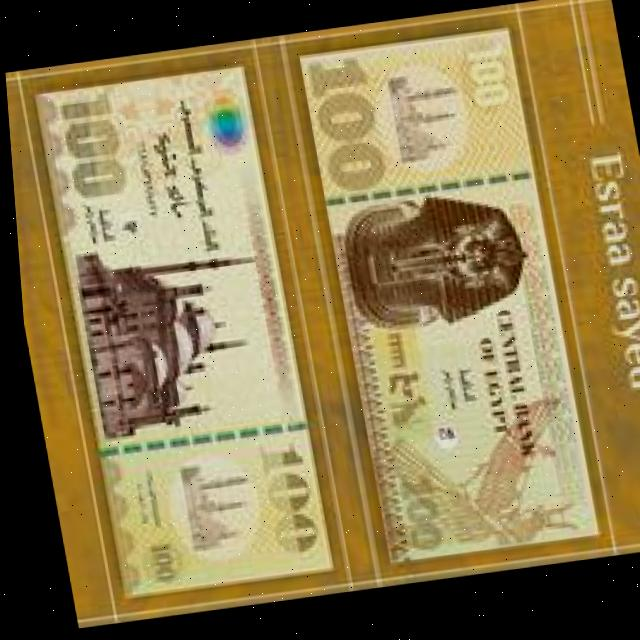banknote: (286, 26, 595, 571), (24, 61, 322, 603)
